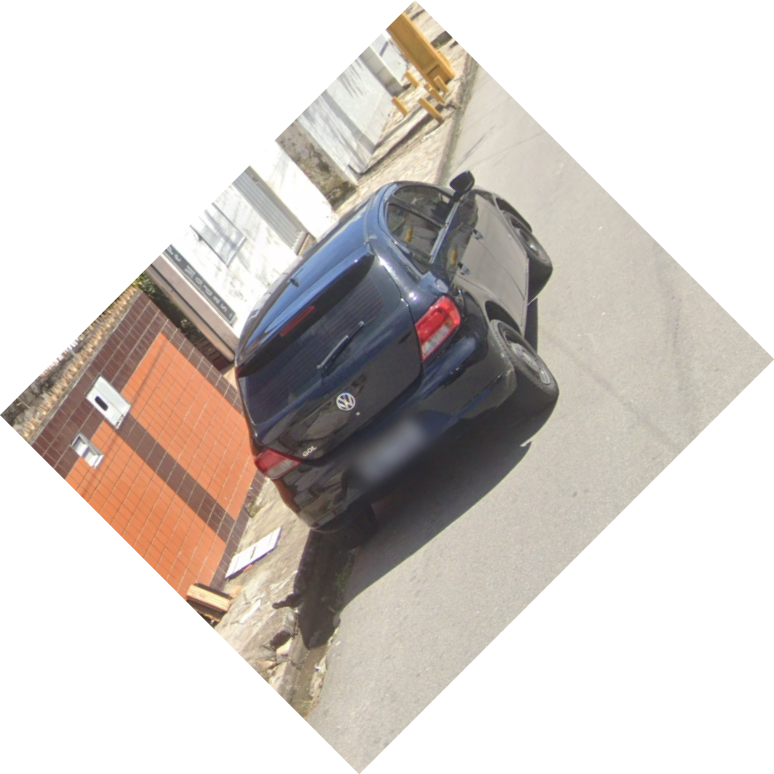car: (231, 166, 564, 550)
